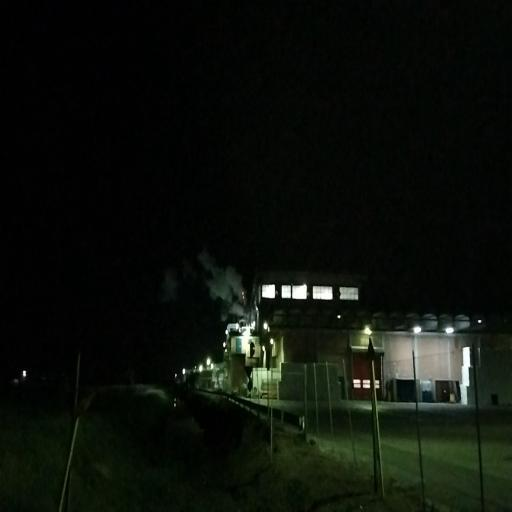leakage: (196, 240, 256, 330)
